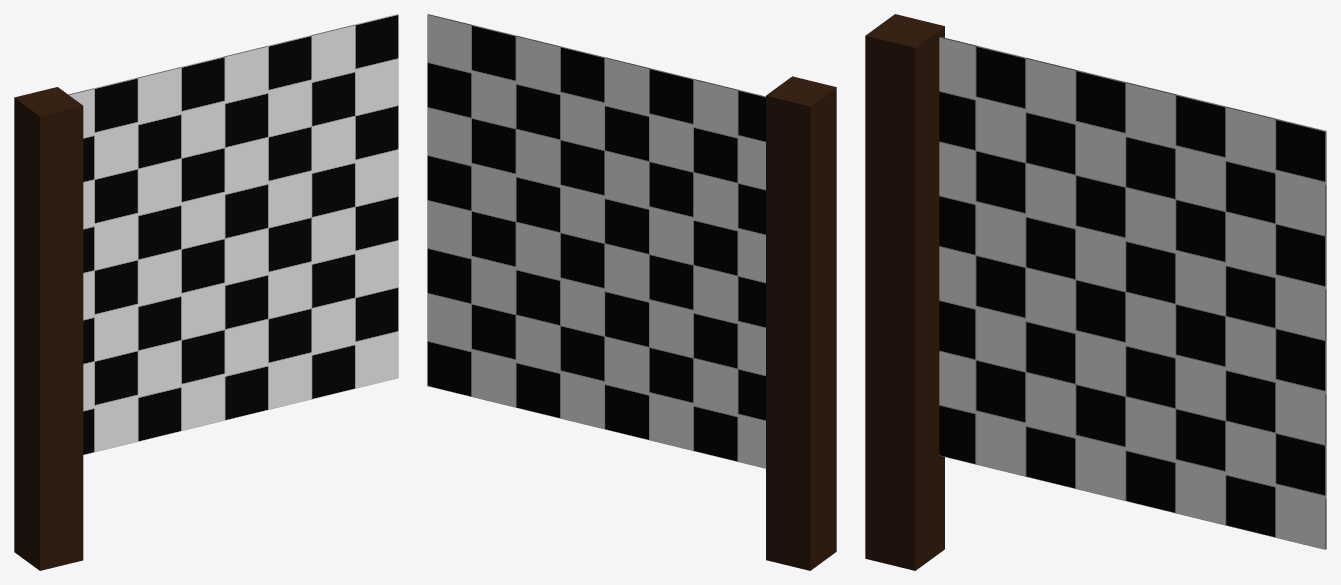
Rendered from Flag.fbx.
3 renders of one model, left to right at view 1: azimuth 30°, elevation 25°; view 2: azimuth 150°, elevation 25°; view 3: azimuth 330°, elevation 25°, orthographic. The views are drawn at different scales.
Visible parts, largest first — view 1: pasted__pPlane3, pCube3, pCube2; view 2: pasted__pPlane2, pCube2, pCube3; view 3: pasted__pPlane3, pCube3, pCube2, pasted__pPlane2.
Boxes of the visible parts, left/top/right/bottom form: pasted__pPlane3: left=69, top=14, right=398, bottom=454; pCube3: left=15, top=89, right=83, bottom=570; pCube2: left=14, top=87, right=81, bottom=569; pasted__pPlane2: left=427, top=14, right=765, bottom=468; pCube2: left=766, top=77, right=834, bottom=570; pCube3: left=768, top=76, right=836, bottom=570; pasted__pPlane3: left=939, top=37, right=1325, bottom=549; pCube3: left=865, top=16, right=944, bottom=570; pCube2: left=866, top=14, right=944, bottom=569; pasted__pPlane2: left=940, top=36, right=1326, bottom=549.
Size of the model in its own units: 8.73 by 10 by 1.03.
